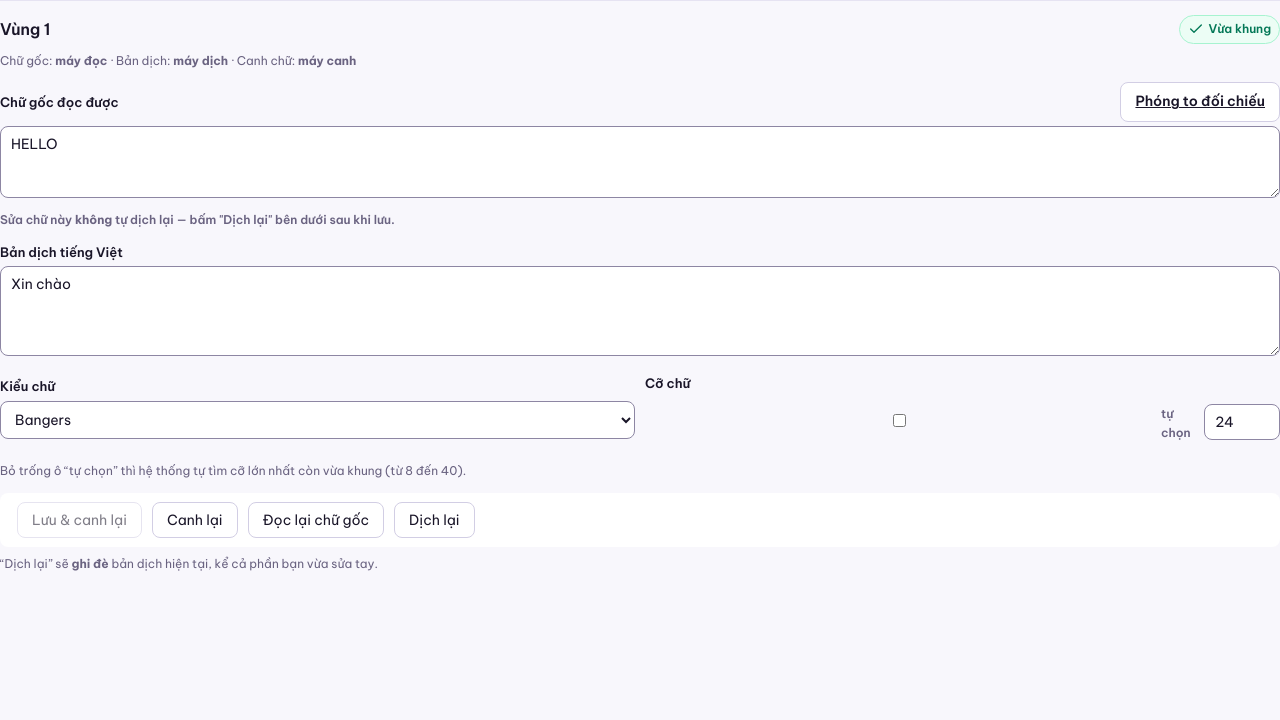
phóng to đối chiếu ảnh gốc (E21) › đóng modal bằng nút Đóng
Click the button "Phóng to đối chiếu".
click(1200, 102)  # box [1120, 82, 1279, 122]
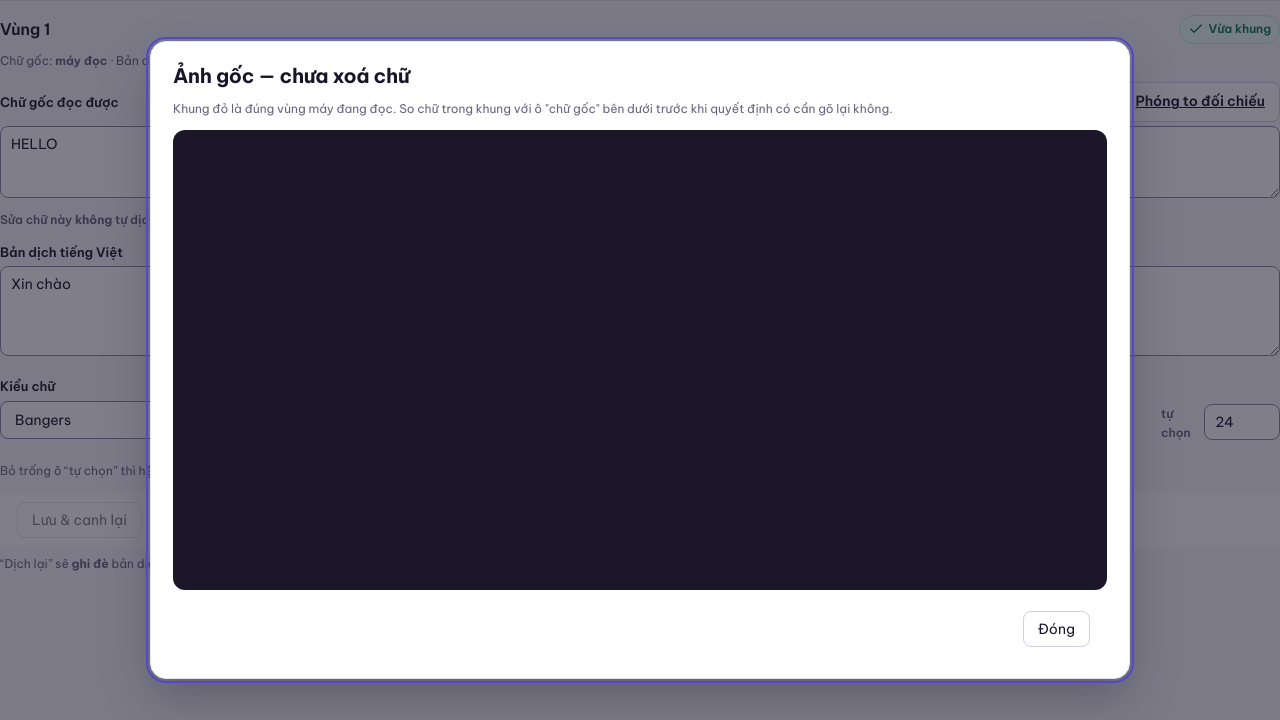
Check: the dialog is shown
Click the button "Đóng".
click(1056, 630)  # box [1023, 612, 1090, 648]
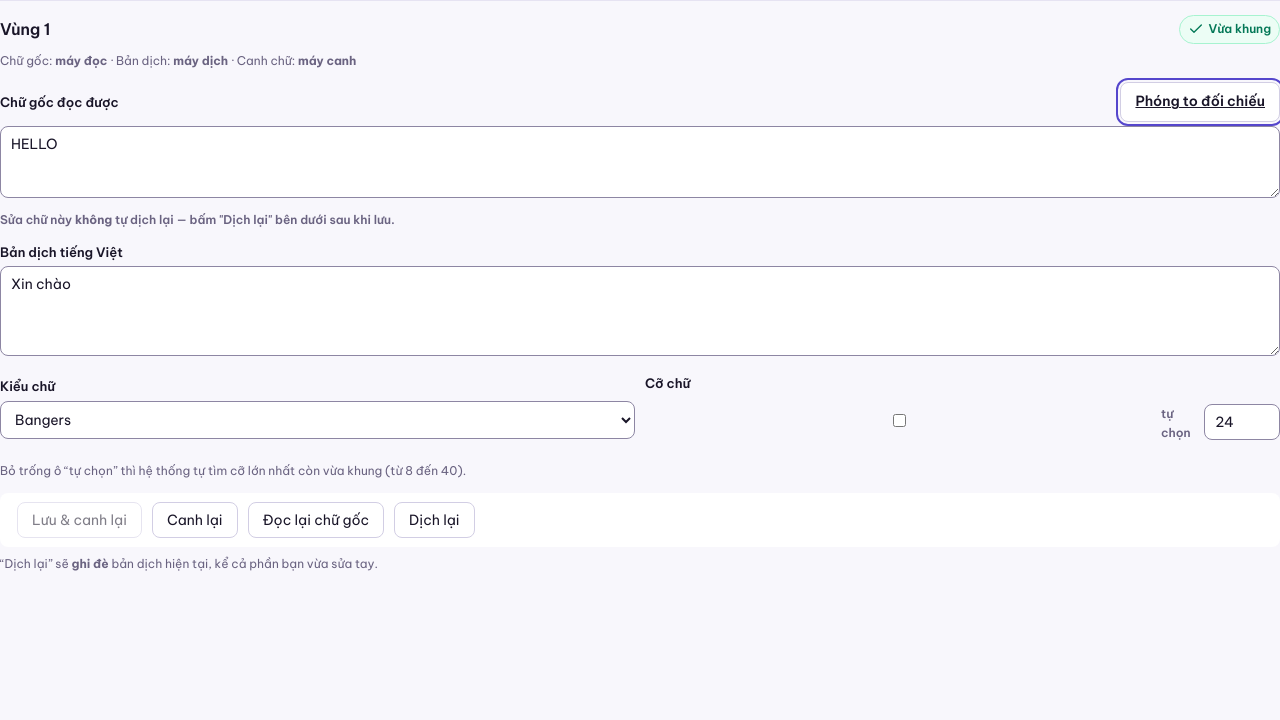
Check: the dialog is gone
